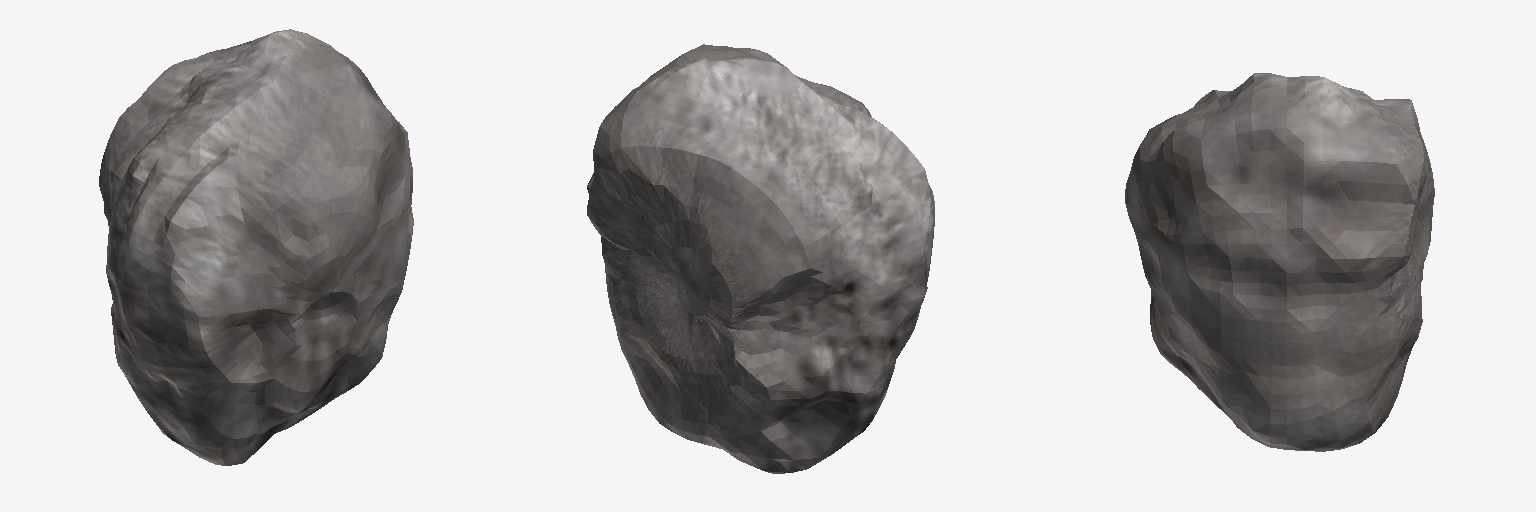
3 renders of one model, left to right at view 1: azimuth 30°, elevation 25°; view 2: azimuth 150°, elevation 25°; view 3: azimuth 270°, elevation 25°, orthographic.
Bounding box in the file's own units: 112 × 145 × 103.
Materials: 1 (1 with a texture image).